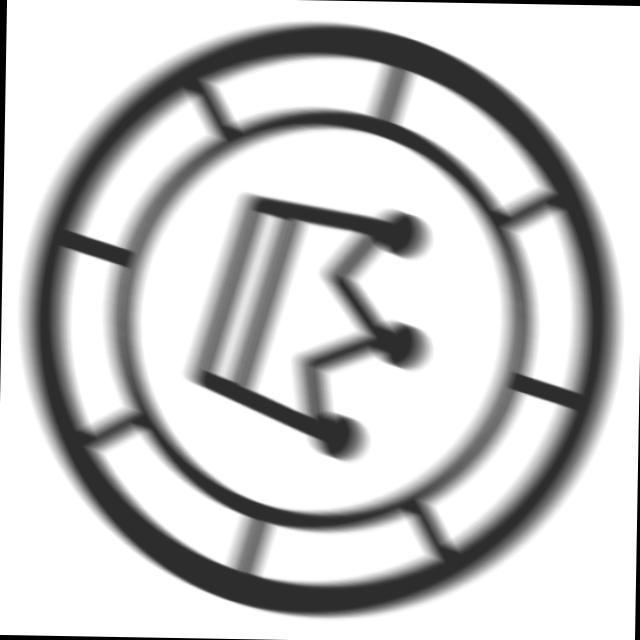coin: (5, 10, 634, 631)
